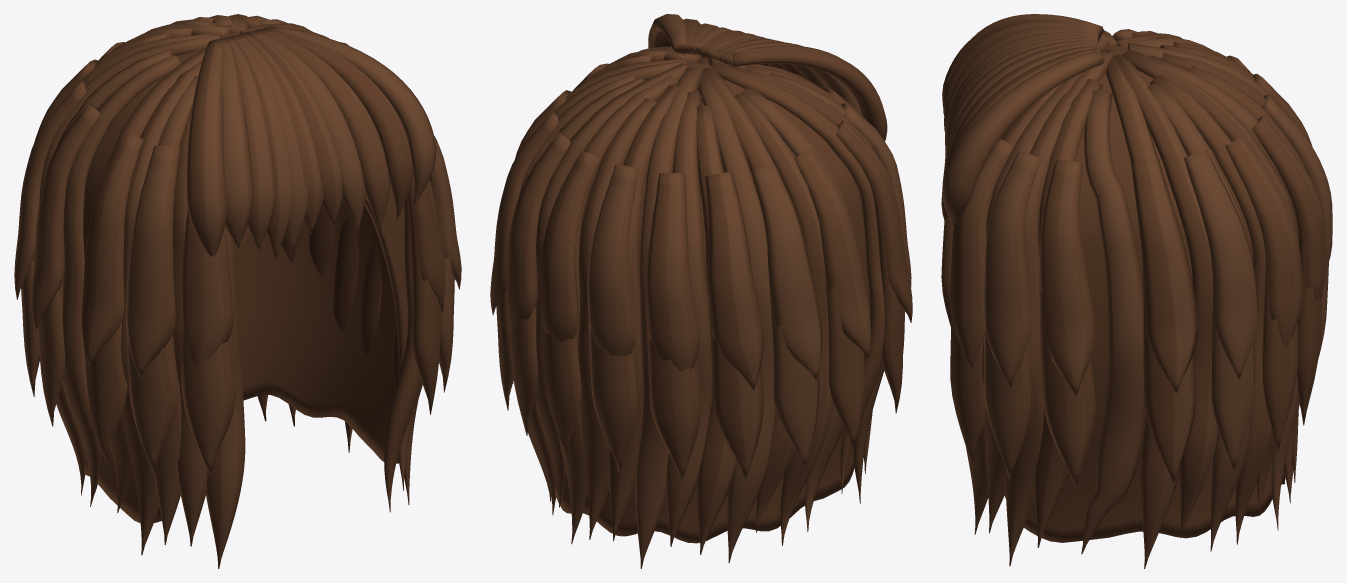
The model's file is corte-feminino-02.glb.
The picture shows the model from 3 angles, left to right: view 1: azimuth 30°, elevation 25°; view 2: azimuth 150°, elevation 25°; view 3: azimuth 270°, elevation 25°; orthographic projection. The views are drawn at different scales.
Visible parts, largest first — view 1: RCL_Corte_Feminino_02; view 2: RCL_Corte_Feminino_02; view 3: RCL_Corte_Feminino_02.
Boxes of the visible parts, x1,y1,x2,y2 form: RCL_Corte_Feminino_02: (14, 14, 461, 568); RCL_Corte_Feminino_02: (490, 14, 912, 568); RCL_Corte_Feminino_02: (941, 14, 1332, 568).
Bounding box in the file's own units: 0.268 × 0.3175 × 0.2402.
